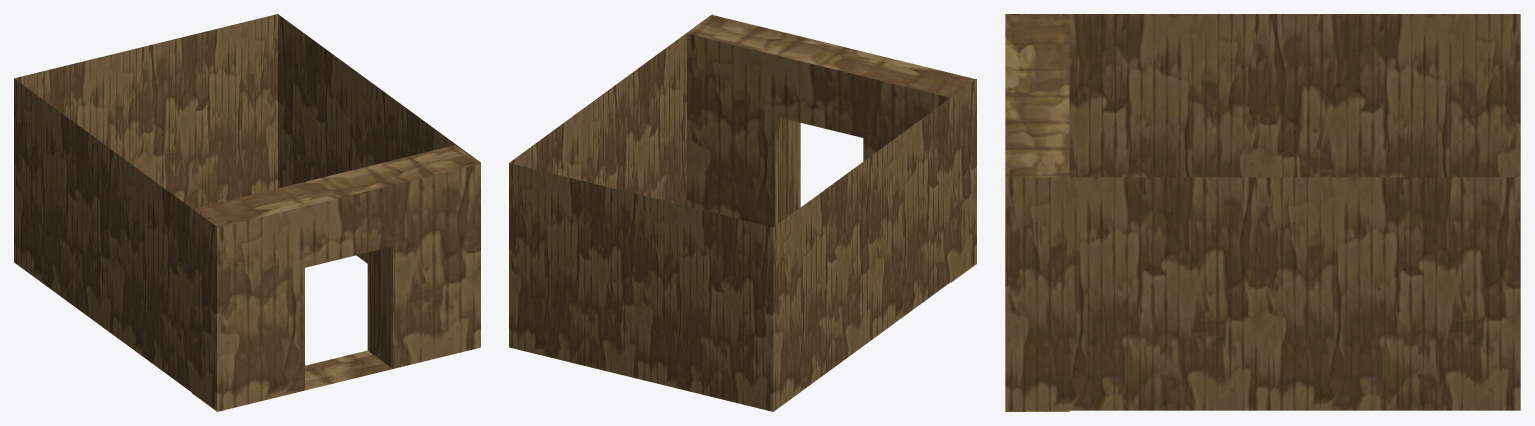
File: Body.fbx
The picture shows the model from 3 angles, left to right: view 1: azimuth 30°, elevation 25°; view 2: azimuth 150°, elevation 25°; view 3: azimuth 270°, elevation 25°; orthographic projection. The views are drawn at different scales.
Visible parts, largest first — view 1: Body; view 2: Body; view 3: Body.
Part boxes in pixels (bbox=[...]): Body: bbox=[14, 14, 480, 411]; Body: bbox=[509, 14, 976, 411]; Body: bbox=[1005, 14, 1520, 411].
Bounding box in the file's own units: 6 × 4.02 × 8.
